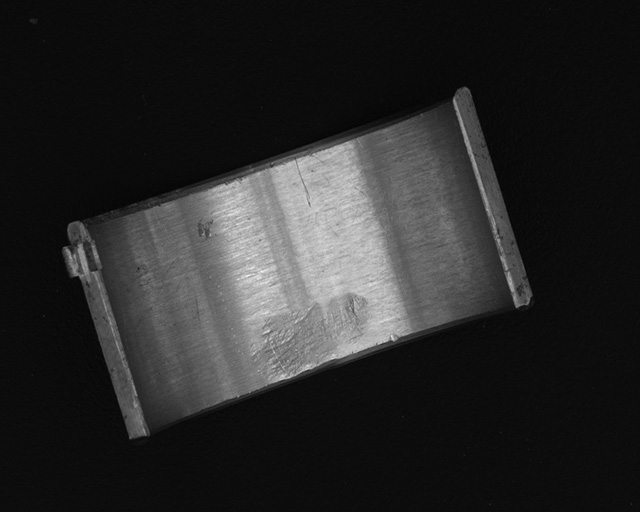bruise: (196, 217, 214, 240), (388, 333, 399, 343)
nick: (293, 156, 313, 208)
scratch: (250, 293, 372, 380)
